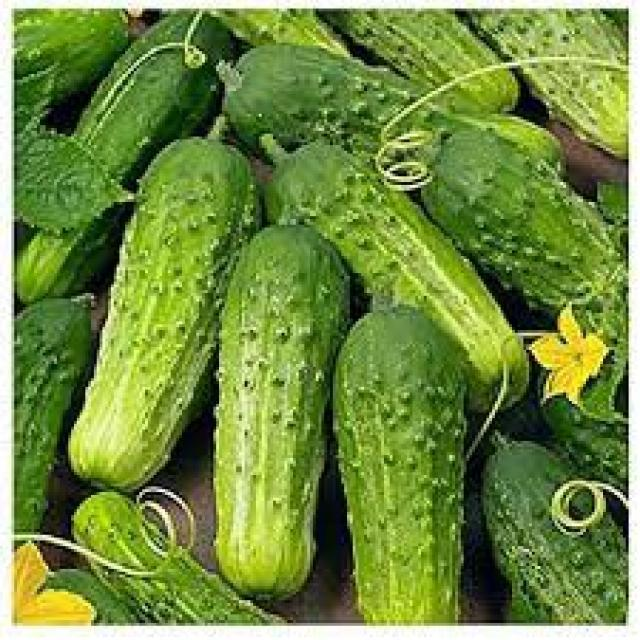cucumber: (266, 143, 531, 409), (68, 136, 264, 493), (212, 219, 356, 594), (222, 40, 570, 178), (332, 307, 469, 637), (416, 129, 627, 325)
